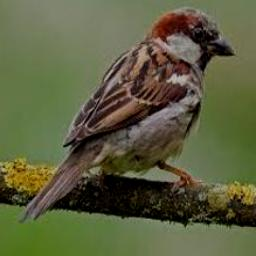Sparrow: (20, 7, 236, 221)
